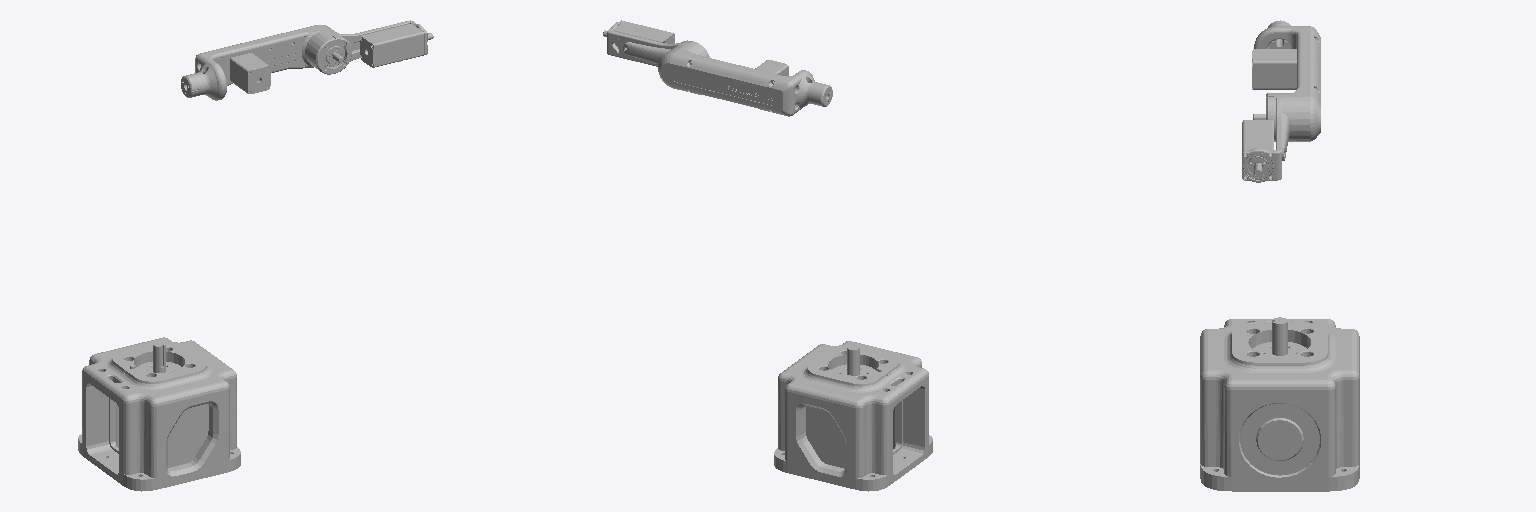
The robot description file, URDF, robot "newrobot":
<?xml version="1.0" encoding="utf-8"?>
<!-- This URDF was automatically created by SolidWorks to URDF Exporter! Originally created by Stephen Brawner (brawner@gmail.com) 
     Commit Version: 1.6.0-4-g7f85cfe  Build Version: 1.6.7995.38578
     For more information, please see http://wiki.ros.org/sw_urdf_exporter -->
<robot
  name="newrobot">
  <link
    name="base_link">
    <inertial>
      <origin
        xyz="0.00261939095793032 8.05598235953691E-07 0.0408606707237568"
        rpy="0 0 0" />
      <mass
        value="0.462567248284449" />
      <inertia
        ixx="0.000631412409093947"
        ixy="3.87578588377488E-11"
        ixz="2.47671577126192E-06"
        iyy="0.000553460390056141"
        iyz="-9.66892035394983E-10"
        izz="0.000690292260338216" />
    </inertial>
    <visual>
      <origin
        xyz="0 0 0"
        rpy="0 0 0" />
      <geometry>
        <mesh
          filename="package://newrobot/meshes/base_link.STL" />
      </geometry>
      <material
        name="">
        <color
          rgba="0.752941176470588 0.752941176470588 0.752941176470588 1" />
      </material>
    </visual>
    <collision>
      <origin
        xyz="0 0 0"
        rpy="0 0 0" />
      <geometry>
        <mesh
          filename="package://newrobot/meshes/base_link.STL" />
      </geometry>
    </collision>
  </link>
  <link
    name="link1">
    <inertial>
      <origin
        xyz="0.0056565029784485 0.00561558713076425 0.0190368428015739"
        rpy="0 0 0" />
      <mass
        value="0.0521371956044282" />
      <inertia
        ixx="1.93676847010315E-05"
        ixy="-7.14737321498401E-06"
        ixz="-5.11088397003481E-06"
        iyy="2.26036907617628E-05"
        iyz="-3.2819850575291E-06"
        izz="3.19827133625892E-05" />
    </inertial>
    <visual>
      <origin
        xyz="0 0 0"
        rpy="0 0 0" />
      <geometry>
        <mesh
          filename="package://newrobot/meshes/link1.STL" />
      </geometry>
      <material
        name="">
        <color
          rgba="0.752941176470588 0.752941176470588 0.752941176470588 1" />
      </material>
    </visual>
    <collision>
      <origin
        xyz="0 0 0"
        rpy="0 0 0" />
      <geometry>
        <mesh
          filename="package://newrobot/meshes/link1.STL" />
      </geometry>
    </collision>
  </link>
  <joint
    name="joint1"
    type="continuous">
    <origin
      xyz="0 0 0.0735"
      rpy="0 0 0" />
    <parent
      link="base_link" />
    <child
      link="link1" />
    <axis
      xyz="0 0 -1" />
    <limit
      effort="50"
      velocity="3.14" />
    <dynamics
      damping="0.1"
      friction="0.1" />
  </joint>
  <link
    name="link2">
    <inertial>
      <origin
        xyz="0.00206174782362262 0.0711069722145173 -0.0157233785349188"
        rpy="0 0 0" />
      <mass
        value="0.318866195314794" />
      <inertia
        ixx="0.000534524375753353"
        ixy="1.21533345653749E-06"
        ixz="-1.4253079872442E-06"
        iyy="0.00010406346155846"
        iyz="3.83306753651922E-05"
        izz="0.000534917411917907" />
    </inertial>
    <visual>
      <origin
        xyz="0 0 0"
        rpy="0 0 0" />
      <geometry>
        <mesh
          filename="package://newrobot/meshes/link2.STL" />
      </geometry>
      <material
        name="">
        <color
          rgba="0.752941176470588 0.752941176470588 0.752941176470588 1" />
      </material>
    </visual>
    <collision>
      <origin
        xyz="0 0 0"
        rpy="0 0 0" />
      <geometry>
        <mesh
          filename="package://newrobot/meshes/link2.STL" />
      </geometry>
    </collision>
  </link>
  <joint
    name="joint2"
    type="revolute">
    <origin
      xyz="0.035 -0.02 0.0355"
      rpy="1.5708 0 0" />
    <parent
      link="link1" />
    <child
      link="link2" />
    <axis
      xyz="0 0 -1" />
    <limit
      lower="-1.047"
      upper="1.047"
      effort="50"
      velocity="3.14" />
    <dynamics
      damping="0.1"
      friction="0.1" />
  </joint>
  <link
    name="link3">
    <inertial>
      <origin
        xyz="0.044754941106177 0.0227550231504386 -0.0153462357219425"
        rpy="0 0 0" />
      <mass
        value="0.0651989298221985" />
      <inertia
        ixx="1.48369365540213E-05"
        ixy="-3.4322889070454E-06"
        ixz="5.20639995254676E-06"
        iyy="2.59127251079158E-05"
        iyz="2.0349264318829E-06"
        izz="2.0069188128937E-05" />
    </inertial>
    <visual>
      <origin
        xyz="0 0 0"
        rpy="0 0 0" />
      <geometry>
        <mesh
          filename="package://newrobot/meshes/link3.STL" />
      </geometry>
      <material
        name="">
        <color
          rgba="0.752941176470588 0.752941176470588 0.752941176470588 1" />
      </material>
    </visual>
    <collision>
      <origin
        xyz="0 0 0"
        rpy="0 0 0" />
      <geometry>
        <mesh
          filename="package://newrobot/meshes/link3.STL" />
      </geometry>
    </collision>
  </link>
  <joint
    name="joint3"
    type="revolute">
    <origin
      xyz="0 0.146 0.00015"
      rpy="0 0 1.5708" />
    <parent
      link="link2" />
    <child
      link="link3" />
    <axis
      xyz="0 0 -1" />
    <limit
      lower="-1.047"
      upper="1.047"
      effort="50"
      velocity="3.14" />
    <dynamics
      damping="0.1"
      friction="0.1" />
  </joint>
  <link
    name="link4">
    <inertial>
      <origin
        xyz="0.0002309228879947 -0.0082886012125518 0.0740096634382911"
        rpy="0 0 0" />
      <mass
        value="0.0632881256112504" />
      <inertia
        ixx="4.17196450828295E-05"
        ixy="3.3500120128033E-08"
        ixz="2.90801167092427E-07"
        iyy="4.32987166338459E-05"
        iyz="-2.14997732003966E-06"
        izz="6.1940654051469E-06" />
    </inertial>
    <visual>
      <origin
        xyz="0 0 0"
        rpy="0 0 0" />
      <geometry>
        <mesh
          filename="package://newrobot/meshes/link4.STL" />
      </geometry>
      <material
        name="">
        <color
          rgba="0.752941176470588 0.752941176470588 0.752941176470588 1" />
      </material>
    </visual>
    <collision>
      <origin
        xyz="0 0 0"
        rpy="0 0 0" />
      <geometry>
        <mesh
          filename="package://newrobot/meshes/link4.STL" />
      </geometry>
    </collision>
  </link>
  <joint
    name="joint4"
    type="continuous">
    <origin
      xyz="0.052 0.012 -0.02015"
      rpy="1.5708 0 0" />
    <parent
      link="link3" />
    <child
      link="link4" />
    <axis
      xyz="0 0 -1" />
    <limit
      effort="50"
      velocity="3.14" />
    <dynamics
      damping="0.1"
      friction="0.1" />
  </joint>
  <link
    name="link5">
    <inertial>
      <origin
        xyz="0.0399750246512569 2.02018813580396E-05 -0.00228749468803351"
        rpy="0 0 0" />
      <mass
        value="0.0280030535897929" />
      <inertia
        ixx="1.68485188743037E-06"
        ixy="1.52011281167684E-09"
        ixz="1.48138109731109E-07"
        iyy="6.90773715268084E-06"
        iyz="-2.40768628082935E-10"
        izz="7.22850860230252E-06" />
    </inertial>
    <visual>
      <origin
        xyz="0 0 0"
        rpy="0 0 0" />
      <geometry>
        <mesh
          filename="package://newrobot/meshes/link5.STL" />
      </geometry>
      <material
        name="">
        <color
          rgba="0.752941176470588 0.752941176470588 0.752941176470588 1" />
      </material>
    </visual>
    <collision>
      <origin
        xyz="0 0 0"
        rpy="0 0 0" />
      <geometry>
        <mesh
          filename="package://newrobot/meshes/link5.STL" />
      </geometry>
    </collision>
  </link>
  <joint
    name="joint5"
    type="revolute">
    <origin
      xyz="0 0.0068 0.127"
      rpy="1.5708 -1.5708 0" />
    <parent
      link="link4" />
    <child
      link="link5" />
    <axis
      xyz="0 0 1" />
    <limit
      lower="-2.094"
      upper="2.094"
      effort="50"
      velocity="3.14" />
    <dynamics
      damping="0.1"
      friction="0.1" />
  </joint>
</robot>

--- What the picture shows (computed from the rendered views, not written in the file) ---
3 views of the same robot in one strip: view 1: azimuth 30°, elevation 25°; view 2: azimuth 150°, elevation 25°; view 3: azimuth 270°, elevation 25° (orthographic).
Model newrobot with 6 links and 5 joints (3 revolute, 2 continuous), rooted at base_link, posed all joints at 0.
Visible links, largest first — view 1: base_link, link4, link5; view 2: base_link, link4, link5; view 3: base_link, link4, link5.
Link boxes in pixels (x1,y1,x2,y2): base_link: [78, 337, 240, 491]; link4: [181, 25, 351, 100]; link5: [326, 20, 433, 67]; base_link: [774, 341, 932, 491]; link4: [658, 40, 832, 116]; link5: [603, 20, 687, 66]; base_link: [1200, 317, 1359, 491]; link4: [1252, 20, 1320, 141]; link5: [1242, 96, 1289, 182].
Bounding box of the posed robot: 0.282 × 0.1 × 0.3205 m (x, y, z).
Meshes: 6 distinct files referenced, 3 mesh visuals loaded (3 binary STL); not drawn: 3 (reference not matched to a file when rendering).
